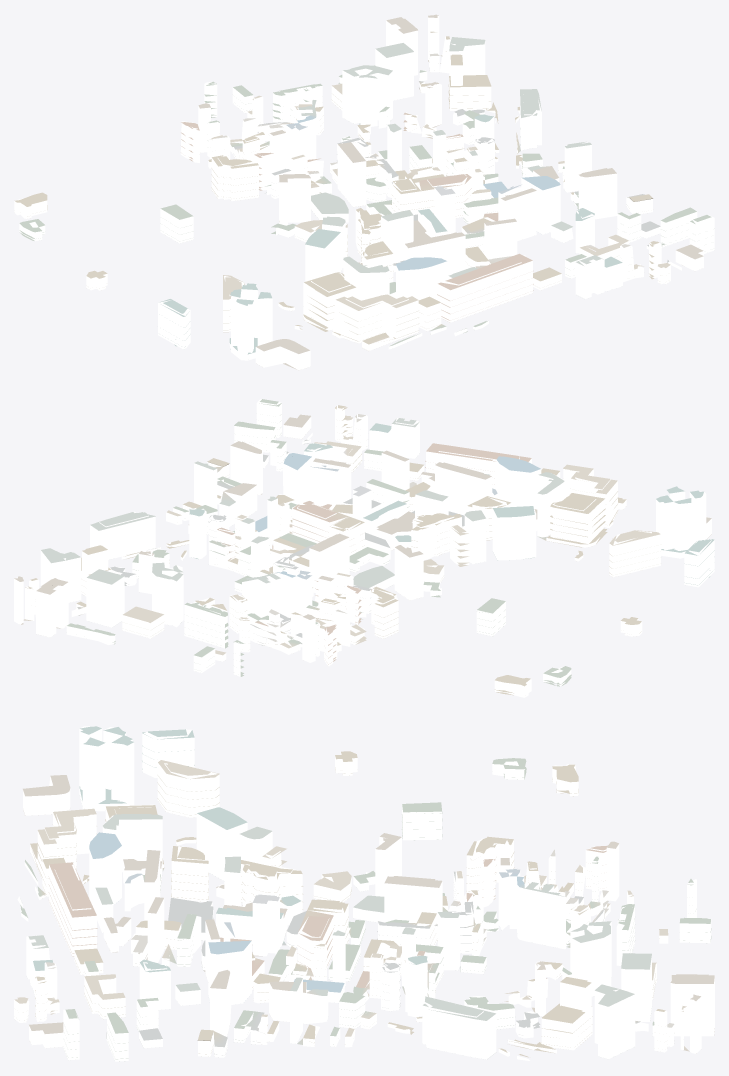
The model's file is buildings-8_1-coarse.glb.
3 renders of one model, top to bottom at view 1: azimuth 30°, elevation 25°; view 2: azimuth 150°, elevation 25°; view 3: azimuth 270°, elevation 25°, orthographic. The views are drawn at different scales.
Visible parts, largest first — view 1: block_8_1_residential, block_8_1_office, block_8_1_roof; view 2: block_8_1_office, block_8_1_residential, block_8_1_roof; view 3: block_8_1_office, block_8_1_residential, block_8_1_roof.
Part boxes in pixels (box(x1,y1,x2,y2)): block_8_1_residential: box(14, 31, 714, 360); block_8_1_office: box(198, 15, 703, 370); block_8_1_roof: box(14, 14, 714, 370); block_8_1_office: box(14, 416, 711, 662); block_8_1_residential: box(25, 399, 714, 697); block_8_1_roof: box(14, 399, 714, 695); block_8_1_office: box(23, 726, 714, 1059); block_8_1_residential: box(14, 729, 711, 1061); block_8_1_roof: box(14, 726, 714, 1061).
Size of the model in its own units: 656 by 70.48 by 655.
